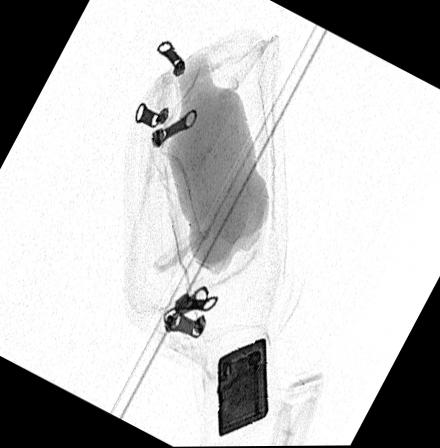Lighter: (218, 336, 270, 437)
